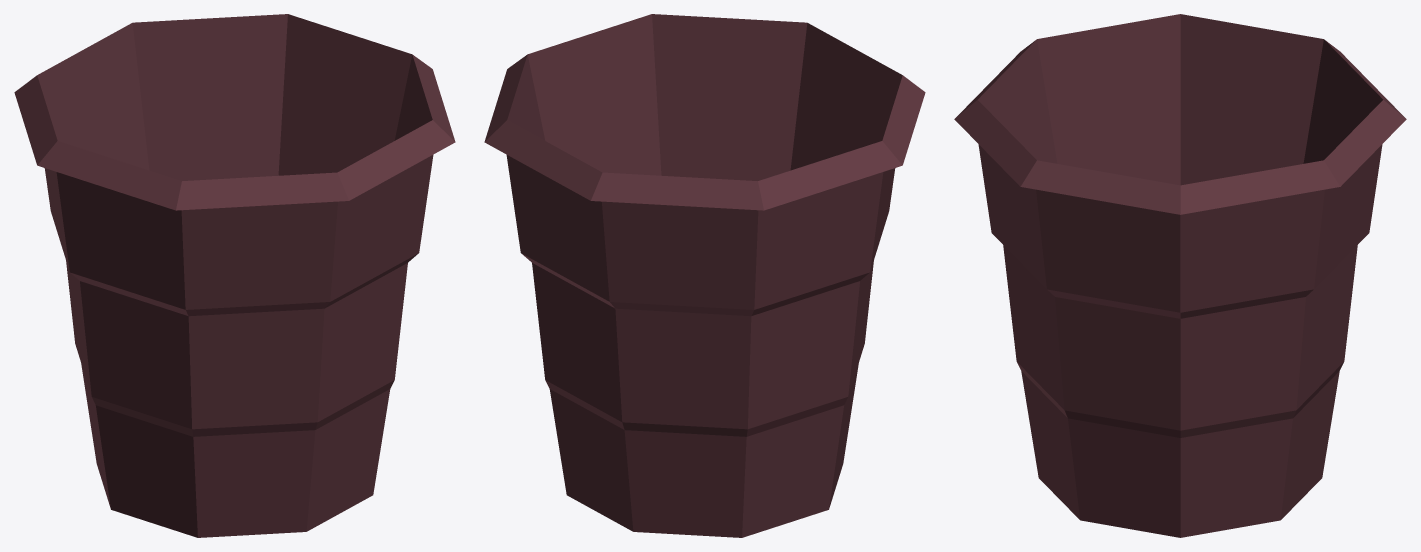
File: bin-house-small.fbx
3 views of the same model, side by side, from view 1: azimuth 30°, elevation 25°; view 2: azimuth 150°, elevation 25°; view 3: azimuth 270°, elevation 25° (orthographic).
Parts seen in each view (by area): view 1: bin-house-small; view 2: bin-house-small; view 3: bin-house-small.
Part boxes in pixels (box(x1,y1,x2,y2)): bin-house-small: box(14, 14, 455, 537); bin-house-small: box(484, 14, 925, 537); bin-house-small: box(954, 14, 1406, 537).
Size of the model in its own units: 0.3079 by 0.2841 by 0.3079.
